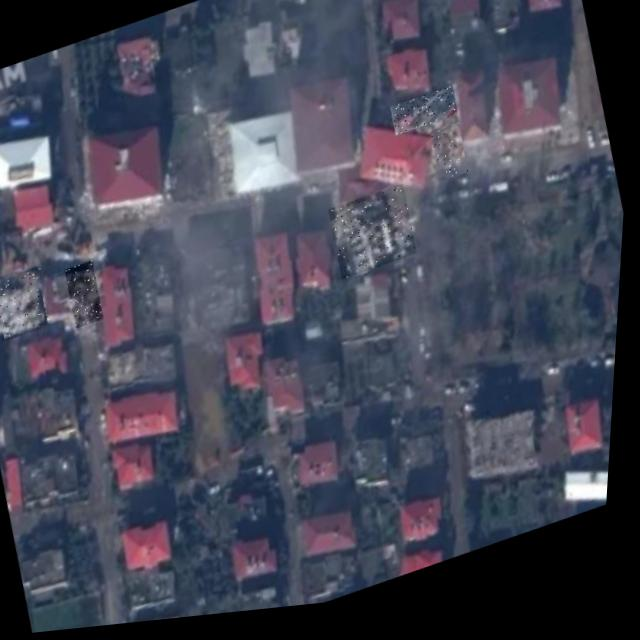Rubble: (328, 191, 424, 289), (0, 263, 58, 343), (391, 95, 461, 145), (65, 261, 110, 331), (429, 131, 473, 192)
